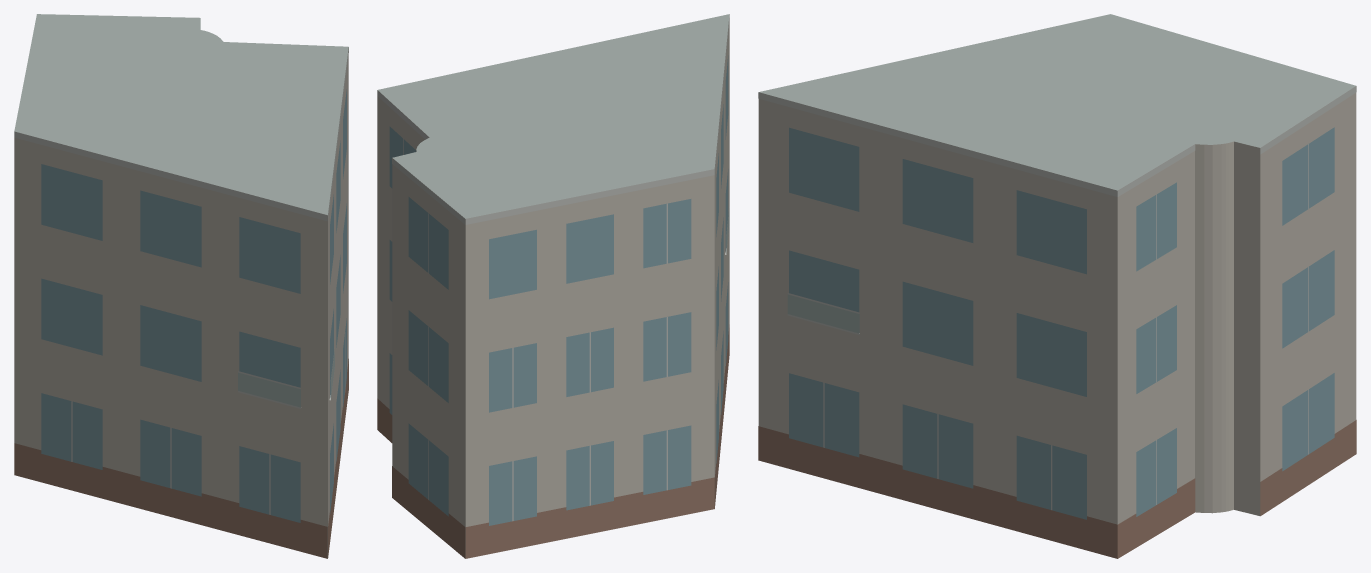
The model's file is survey-upis-33006860.glb.
3 views of the same model, side by side, from view 1: azimuth 30°, elevation 25°; view 2: azimuth 150°, elevation 25°; view 3: azimuth 270°, elevation 25° (orthographic). The views are drawn at different scales.
Visible parts, largest first — view 1: survey-upis-33006860.tmp; view 2: survey-upis-33006860.tmp; view 3: survey-upis-33006860.tmp.
Part boxes in pixels (x1,y1,x2,y2): survey-upis-33006860.tmp: (14,14,348,558); survey-upis-33006860.tmp: (377,14,729,558); survey-upis-33006860.tmp: (758,14,1356,558).
Bounding box in the file's own units: 13.99 × 13.6 × 20.02.
